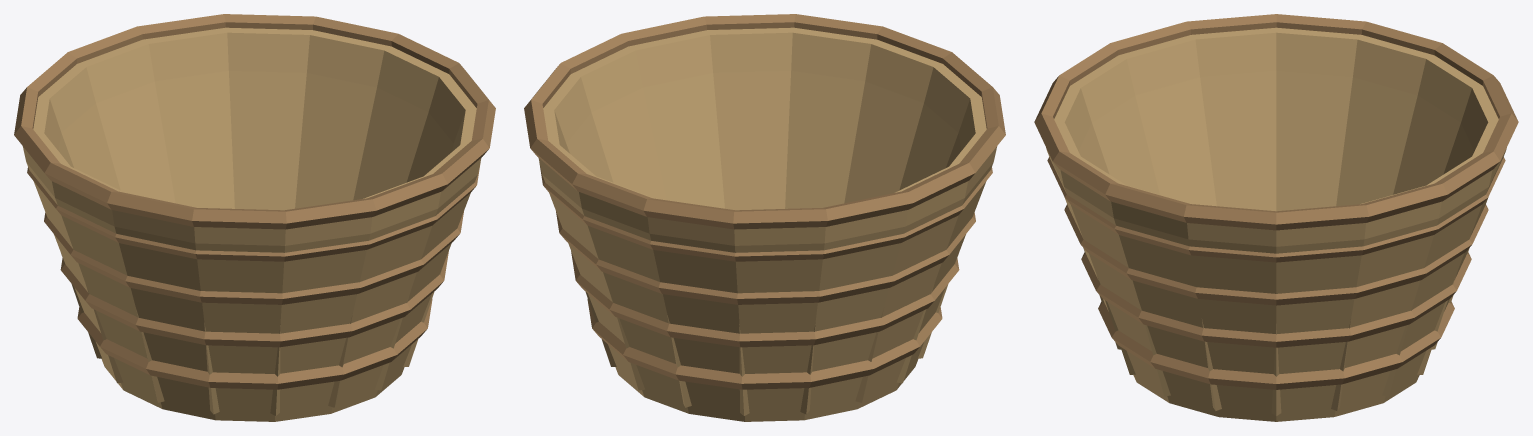
Rendered from Canasto.fbx.
3 renders of one model, left to right at view 1: azimuth 30°, elevation 25°; view 2: azimuth 150°, elevation 25°; view 3: azimuth 270°, elevation 25°, orthographic.
Visible parts, largest first — view 1: Canasto; view 2: Canasto; view 3: Canasto.
Part boxes in pixels (bbox=[...]): Canasto: bbox=[14, 14, 495, 421]; Canasto: bbox=[524, 14, 1005, 421]; Canasto: bbox=[1034, 14, 1518, 421].
Bounding box in the file's own units: 0.8006 × 0.4462 × 0.8006.
